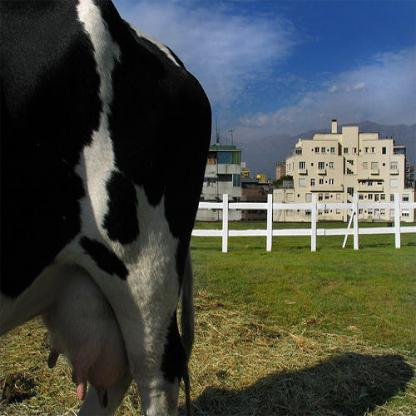cow: (0, 0, 212, 415)
